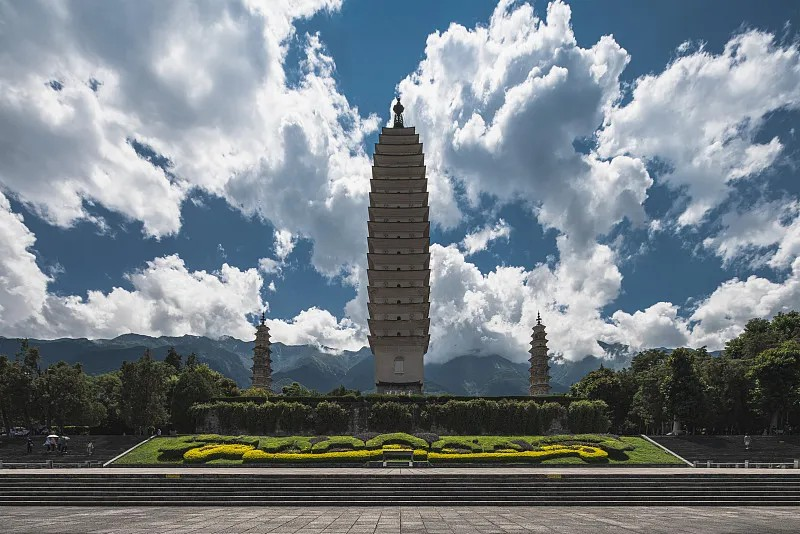ThreePagoda: (366, 95, 432, 393)
